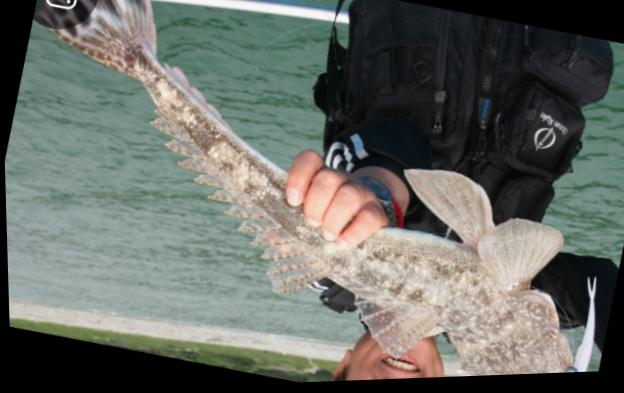fish: (34, 0, 577, 380)
